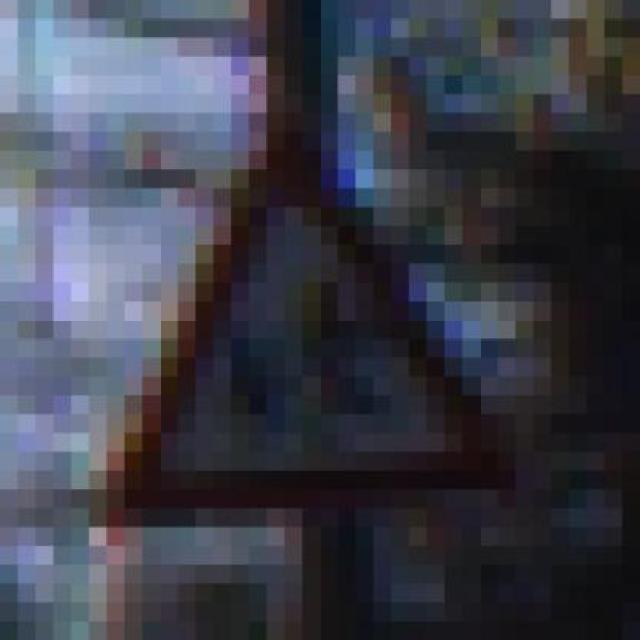Beware of children: (71, 132, 534, 508)
